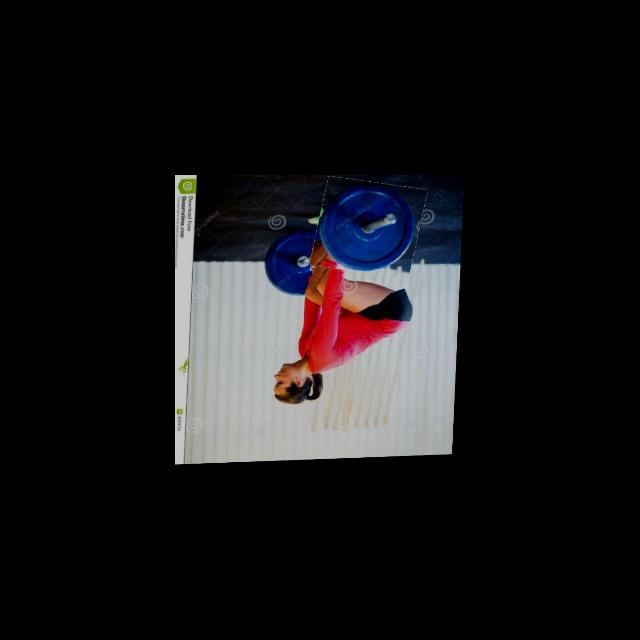barbell: (313, 178, 425, 279)
